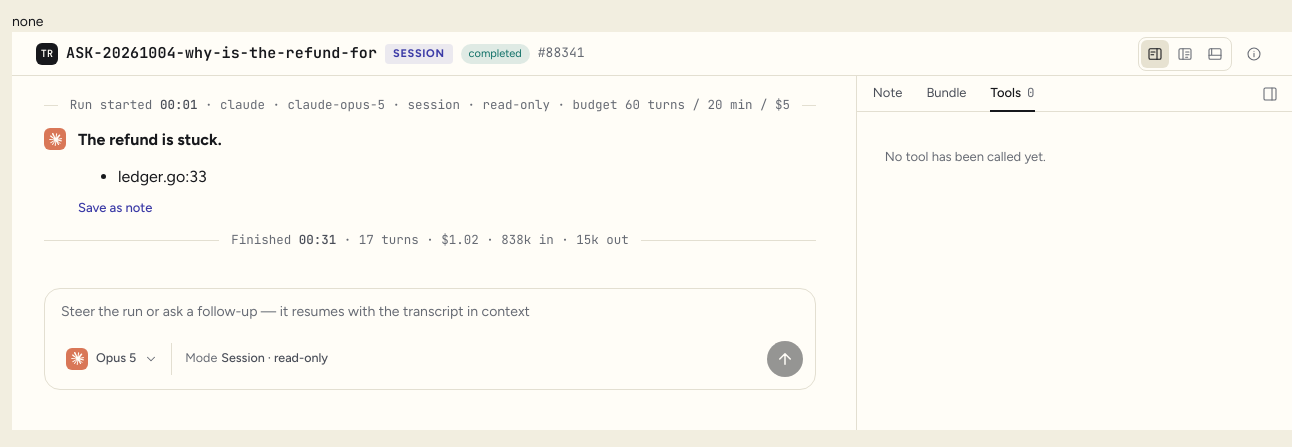
Scenario: SessionConversation › a reply run › saves a session reply as a note
What coordinates should you click on to do the following:
click the button "Save as note"
I would click on:
 (115, 208)
Its box is [78,199,152,217].
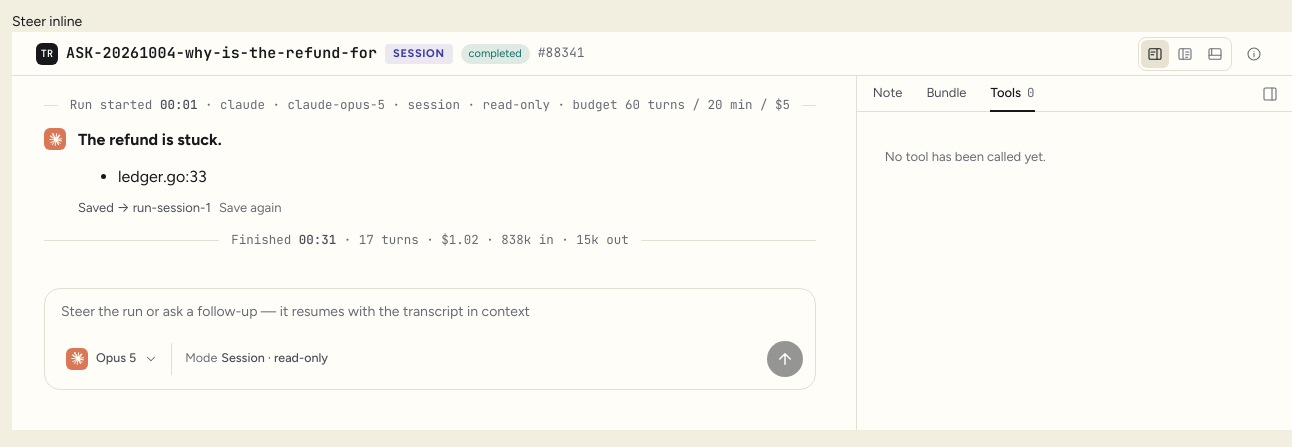
Expected: the element with test id "save-note" shows "Saved → run-session-1", [78,199,282,217]
Expected: the button "Save again" is shown, [219,199,282,217]
